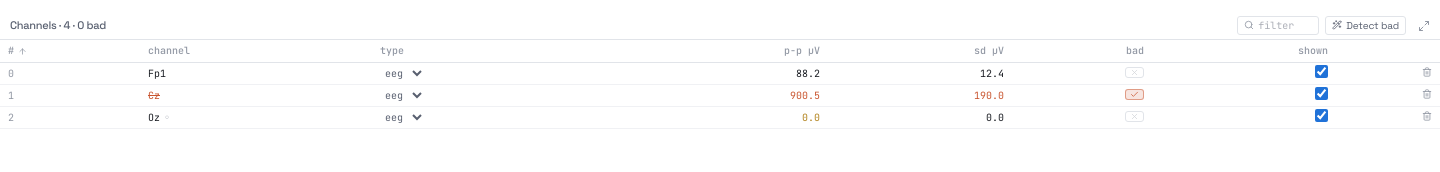
it: the channel table › filters the table without touching the recording
Type "cz" into the field named "Filter channels" at (1285, 25), box [1258,19,1312,32]
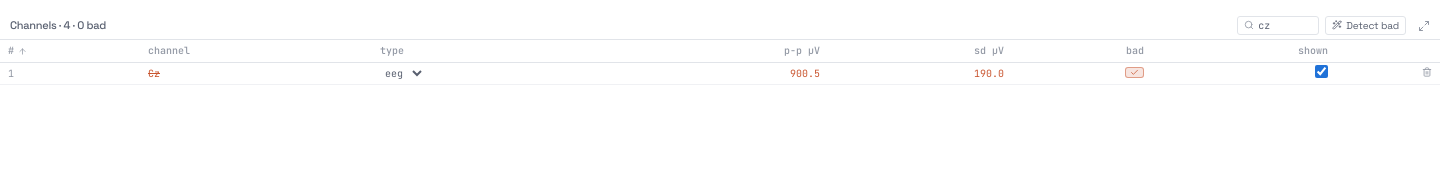
Expected: the button "Cz" is shown, [148,66,160,80]
Expected: the button "Fp1" is gone
